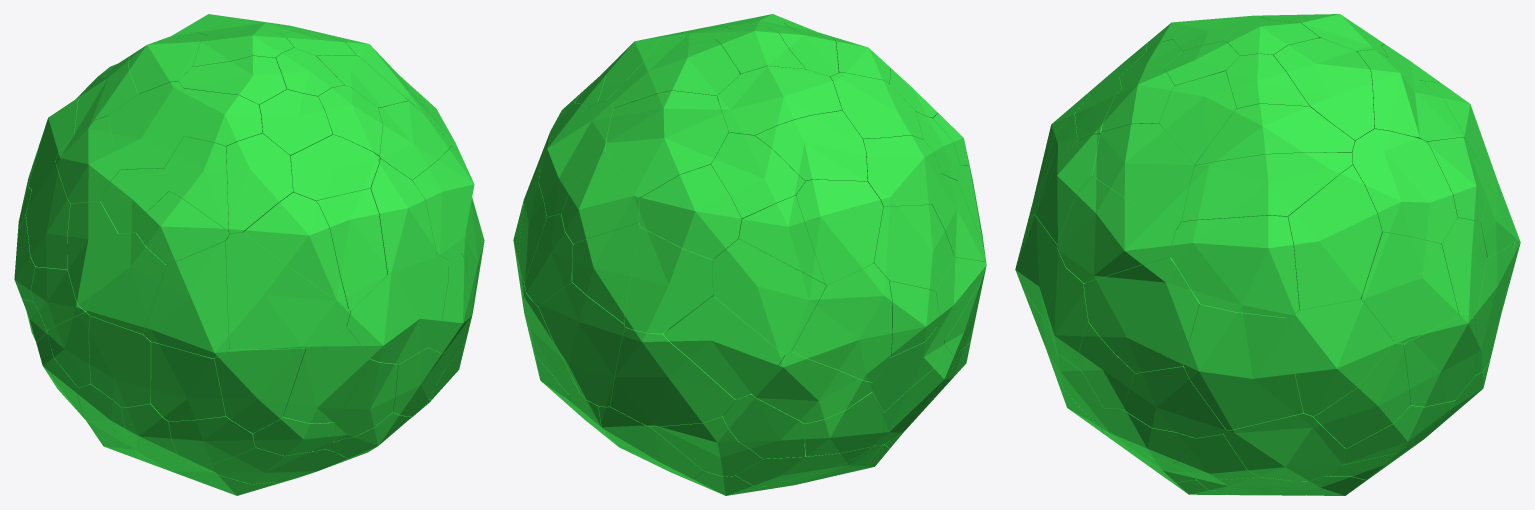
The model's file is BrokenPlanet.fbx.
3 renders of one model, left to right at view 1: azimuth 30°, elevation 25°; view 2: azimuth 150°, elevation 25°; view 3: azimuth 270°, elevation 25°, orthographic. The views are drawn at different scales.
Visible parts, largest first — view 1: Icosphere_cell.072, Icosphere_cell.053, Icosphere_cell.024, Icosphere_cell.031, Icosphere_cell.035, Icosphere_cell.060, Icosphere_cell.065, Icosphere_cell.063, Icosphere_cell.080, Icosphere_cell.101, Icosphere_cell.064, Icosphere_cell.068 (+41 smaller); view 2: Icosphere_cell.007, Icosphere_cell.084, Icosphere_cell.057, Icosphere_cell.058, Icosphere_cell.038, Icosphere_cell.092, Icosphere_cell.089, Icosphere_cell.049, Icosphere_cell.076, Icosphere_cell.021, Icosphere_cell.009, Icosphere_cell.098 (+38 smaller); view 3: Icosphere_cell.071, Icosphere_cell.095, Icosphere_cell.086, Icosphere_cell.008, Icosphere_cell.001, Icosphere_cell.011, Icosphere_cell.006, Icosphere_cell.012, Icosphere_cell.074, Icosphere_cell.013, Icosphere_cell.016, Icosphere_cell.079 (+39 smaller).
Boxes of the visible parts, bbox=[...] form: Icosphere_cell.072: bbox=[225, 232, 350, 349]; Icosphere_cell.053: bbox=[346, 254, 448, 364]; Icosphere_cell.024: bbox=[143, 239, 229, 358]; Icosphere_cell.031: bbox=[214, 347, 305, 433]; Icosphere_cell.035: bbox=[244, 192, 347, 307]; Icosphere_cell.060: bbox=[283, 327, 369, 423]; Icosphere_cell.065: bbox=[316, 188, 387, 310]; Icosphere_cell.063: bbox=[86, 233, 172, 334]; Icosphere_cell.080: bbox=[108, 81, 184, 169]; Icosphere_cell.101: bbox=[226, 133, 292, 234]; Icosphere_cell.064: bbox=[151, 342, 225, 421]; Icosphere_cell.068: bbox=[370, 158, 435, 274]; Icosphere_cell.007: bbox=[606, 90, 729, 198]; Icosphere_cell.084: bbox=[610, 327, 735, 426]; Icosphere_cell.057: bbox=[766, 253, 892, 382]; Icosphere_cell.058: bbox=[712, 239, 826, 354]; Icosphere_cell.038: bbox=[796, 179, 882, 284]; Icosphere_cell.092: bbox=[663, 295, 784, 399]; Icosphere_cell.089: bbox=[624, 227, 713, 333]; Icosphere_cell.049: bbox=[639, 164, 741, 259]; Icosphere_cell.076: bbox=[538, 282, 625, 406]; Icosphere_cell.021: bbox=[717, 66, 841, 135]; Icosphere_cell.009: bbox=[755, 110, 867, 181]; Icosphere_cell.098: bbox=[764, 205, 954, 291]; Icosphere_cell.071: bbox=[1184, 304, 1303, 429]; Icosphere_cell.095: bbox=[1170, 215, 1299, 317]; Icosphere_cell.086: bbox=[1084, 257, 1200, 373]; Icosphere_cell.008: bbox=[1288, 165, 1381, 309]; Icosphere_cell.001: bbox=[1182, 152, 1352, 221]; Icosphere_cell.011: bbox=[1351, 129, 1457, 243]; Icosphere_cell.006: bbox=[1286, 299, 1394, 415]; Icosphere_cell.012: bbox=[1057, 176, 1176, 282]; Icosphere_cell.074: bbox=[1360, 232, 1458, 343]; Icosphere_cell.013: bbox=[1092, 123, 1194, 229]; Icosphere_cell.016: bbox=[1273, 38, 1374, 140]; Icosphere_cell.079: bbox=[1195, 103, 1354, 165].
Bounding box in the file's own units: 193 × 199 × 200.
